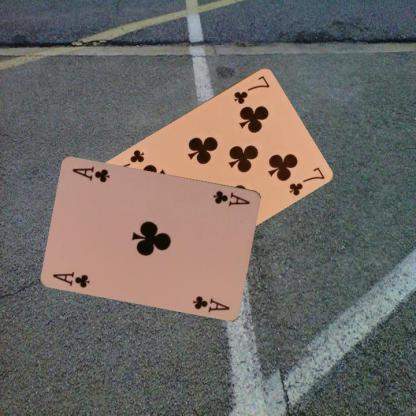7c: (231, 72, 271, 106)
Ac: (211, 187, 251, 208), (51, 269, 92, 289)
